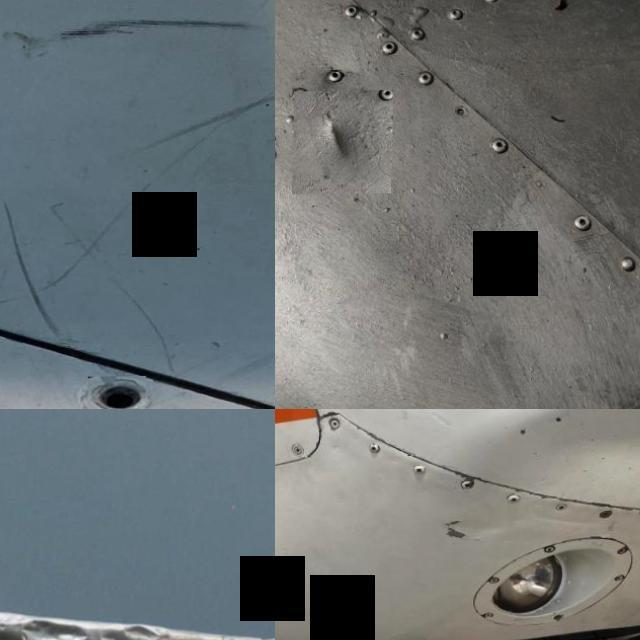Dent: (294, 91, 394, 195), (0, 611, 275, 640), (430, 414, 454, 429), (433, 429, 442, 436), (458, 422, 465, 428), (540, 480, 550, 484), (564, 461, 571, 466), (590, 451, 597, 456), (480, 412, 488, 416), (582, 446, 588, 451), (574, 472, 580, 477), (490, 460, 495, 466), (452, 409, 459, 413), (590, 466, 596, 470), (586, 489, 592, 493), (402, 418, 408, 422), (574, 463, 579, 467), (555, 481, 560, 485), (490, 442, 494, 447), (610, 478, 616, 481), (426, 420, 430, 424), (570, 488, 576, 490), (592, 481, 596, 484)
Missing_Fastener: (90, 376, 148, 409)
